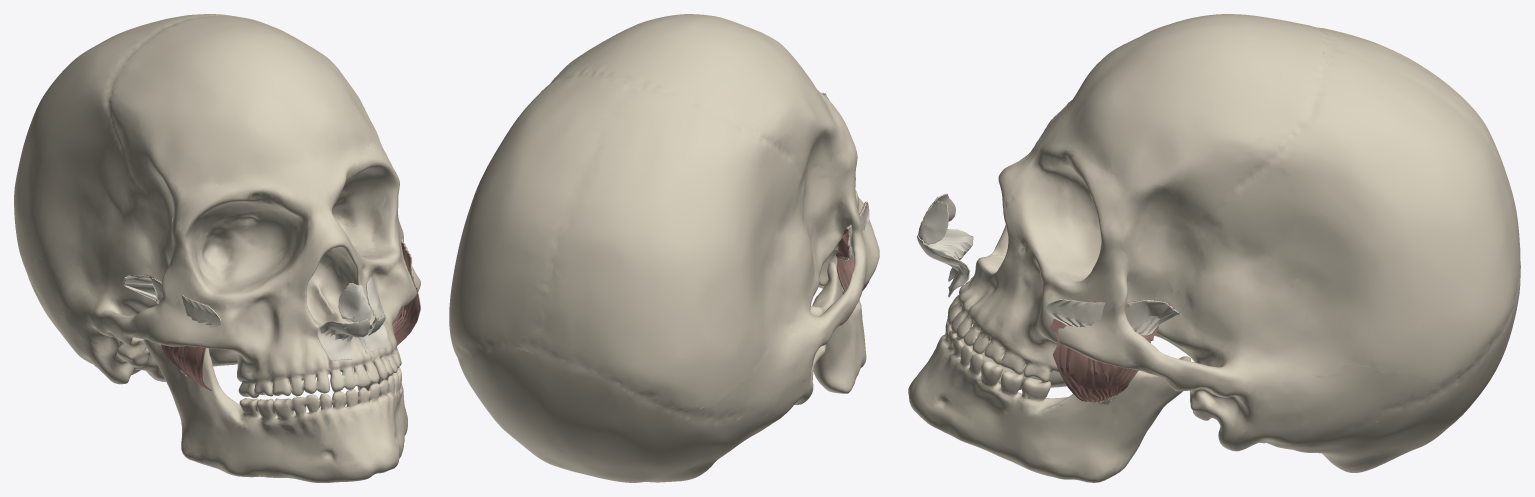
Rendered from textured-bone.glb.
3 renders of one model, left to right at view 1: azimuth 30°, elevation 25°; view 2: azimuth 150°, elevation 25°; view 3: azimuth 270°, elevation 25°, orthographic. The views are drawn at different scales.
Parts seen in each view (by area): view 1: textured-illustrative-bone, Alar cartilage -1, Zygomatic aponeurosis -1, Masseter -1, Masseter 1, Upper lateral cartilage -1, Alar cartilage 1, Upper lateral cartilage 1; view 2: textured-illustrative-bone, Masseter -1; view 3: textured-illustrative-bone, Masseter 1, Zygomatic aponeurosis 1, Upper lateral cartilage 1, Alar cartilage -1, Alar cartilage 1.
Part boxes in pixels (box(x1,y1,x2,y2)): textured-illustrative-bone: box(14, 14, 420, 482); Alar cartilage -1: box(317, 319, 369, 360); Zygomatic aponeurosis -1: box(122, 275, 221, 327); Masseter -1: box(123, 274, 211, 390); Masseter 1: box(392, 240, 420, 345); Upper lateral cartilage -1: box(338, 283, 371, 321); Alar cartilage 1: box(358, 314, 387, 353); Upper lateral cartilage 1: box(366, 277, 384, 320); textured-illustrative-bone: box(449, 14, 879, 482); Masseter -1: box(835, 201, 869, 291); textured-illustrative-bone: box(908, 14, 1520, 482); Masseter 1: box(1049, 298, 1174, 402); Zygomatic aponeurosis 1: box(1045, 299, 1180, 336); Upper lateral cartilage 1: box(918, 200, 948, 244); Alar cartilage -1: box(924, 229, 973, 281); Alar cartilage 1: box(917, 234, 970, 297).
Bounding box in the file's own units: 0.1279 × 0.1625 × 0.2181.
